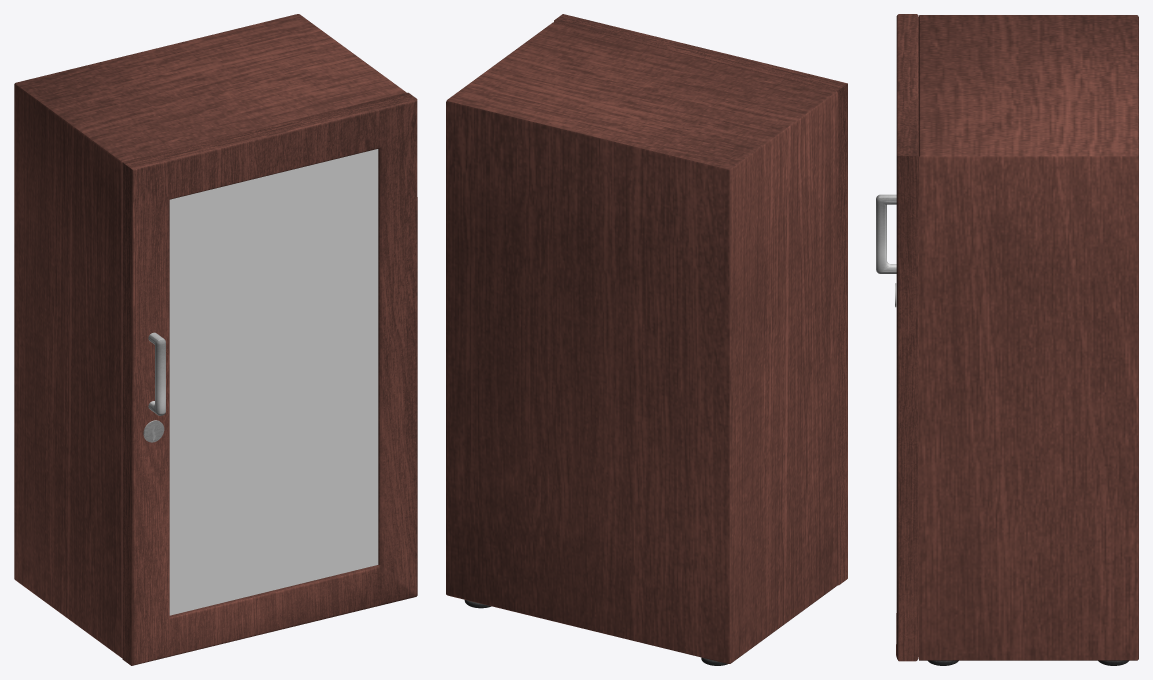
The model's file is GlassCubBoard.fbx.
3 renders of one model, left to right at view 1: azimuth 30°, elevation 25°; view 2: azimuth 150°, elevation 25°; view 3: azimuth 270°, elevation 25°, orthographic. The views are drawn at different scales.
Visible parts, largest first — view 1: Glass, CubBoard, Door, Handle; view 2: CubBoard, Door; view 3: CubBoard, Door, Handle.
Boxes of the visible parts, x1,y1,x2,y2 form: Glass: [169, 149, 378, 615]; CubBoard: [14, 14, 406, 657]; Door: [122, 92, 417, 665]; Handle: [148, 332, 165, 415]; CubBoard: [446, 22, 837, 663]; Door: [554, 14, 847, 585]; CubBoard: [919, 15, 1138, 660]; Door: [896, 14, 918, 661]; Handle: [876, 194, 896, 273].
Size of the model in its own units: 121 by 204 by 94.31.
Materials: 3 (3 with a texture image).
